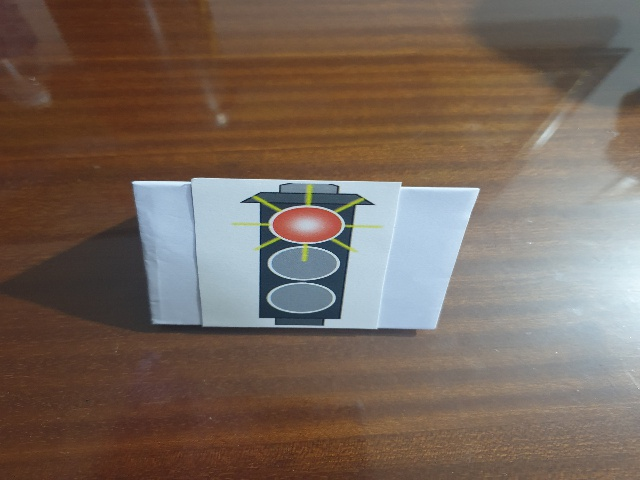Red Light: (236, 181, 376, 333)
